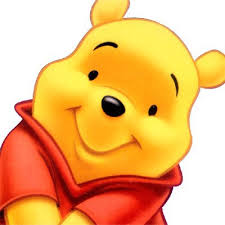Winnie: (20, 1, 225, 203)
